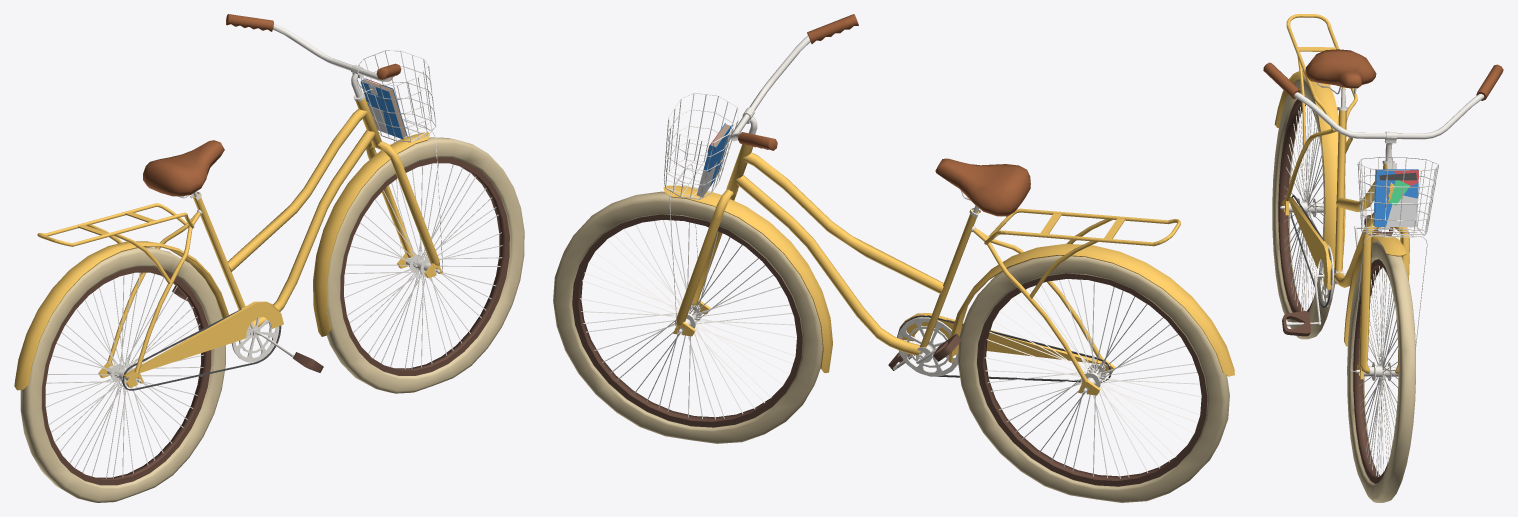
The model's file is bicycle.glb.
3 renders of one model, left to right at view 1: azimuth 30°, elevation 25°; view 2: azimuth 150°, elevation 25°; view 3: azimuth 270°, elevation 25°, orthographic. The views are drawn at different scales.
Parts seen in each view (by area): view 1: Cylinder.017_Material.006_0, Cylinder.005_Material.001_0, Cylinder.015_Material.002_0, Cylinder.017_Material.004_0, Cylinder.013_Material.005_0, Circle.004_Material.001_0, Cube.007_Material.010_0, Circle.003_Material.002_0, Circle.005_Material.007_0; view 2: Cylinder.017_Material.006_0, Cylinder.005_Material.001_0, Cylinder.015_Material.002_0, Cylinder.017_Material.004_0, Cylinder.013_Material.005_0, Circle.004_Material.001_0, Circle.003_Material.002_0, Circle.005_Material.007_0; view 3: Cylinder.015_Material.002_0, Cylinder.017_Material.006_0, Cylinder.005_Material.001_0, Cylinder.017_Material.004_0, Cylinder.013_Material.005_0, Circle.004_Material.001_0, Cube.007_Material.010_0, Cube.007_Material.008_0, Circle.003_Material.002_0, Circle.005_Material.007_0, Cube.007_Material.009_0.
Part boxes in pixels (x1=…): Cylinder.017_Material.006_0: x1=20, y1=137, x2=524, y2=502; Cylinder.005_Material.001_0: x1=14, y1=98, x2=442, y2=390; Cylinder.015_Material.002_0: x1=45, y1=23, x2=502, y2=478; Cylinder.017_Material.004_0: x1=42, y1=157, x2=509, y2=485; Cylinder.013_Material.005_0: x1=143, y1=14, x2=401, y2=196; Circle.004_Material.001_0: x1=123, y1=301, x2=283, y2=377; Cube.007_Material.010_0: x1=360, y1=78, x2=407, y2=139; Circle.003_Material.002_0: x1=231, y1=317, x2=278, y2=362; Circle.005_Material.007_0: x1=122, y1=309, x2=281, y2=390; Cylinder.017_Material.006_0: x1=553, y1=191, x2=1229, y2=502; Cylinder.005_Material.001_0: x1=663, y1=144, x2=1234, y2=395; Cylinder.015_Material.002_0: x1=580, y1=35, x2=1201, y2=478; Cylinder.017_Material.004_0: x1=572, y1=214, x2=1207, y2=486; Cylinder.013_Material.005_0: x1=738, y1=14, x2=1030, y2=216; Circle.004_Material.001_0: x1=897, y1=313, x2=1110, y2=367; Circle.003_Material.002_0: x1=897, y1=317, x2=958, y2=376; Circle.005_Material.007_0: x1=897, y1=315, x2=1111, y2=382; Cylinder.015_Material.002_0: x1=1280, y1=82, x2=1484, y2=476; Cylinder.017_Material.006_0: x1=1272, y1=77, x2=1415, y2=502; Cylinder.005_Material.001_0: x1=1274, y1=14, x2=1409, y2=379; Cylinder.017_Material.004_0: x1=1278, y1=96, x2=1393, y2=483; Cylinder.013_Material.005_0: x1=1263, y1=49, x2=1503, y2=100; Circle.004_Material.001_0: x1=1289, y1=197, x2=1331, y2=289; Cube.007_Material.010_0: x1=1373, y1=169, x2=1418, y2=226; Cube.007_Material.008_0: x1=1386, y1=195, x2=1417, y2=226; Circle.003_Material.002_0: x1=1319, y1=227, x2=1389, y2=306; Circle.005_Material.007_0: x1=1290, y1=195, x2=1331, y2=307; Cube.007_Material.009_0: x1=1389, y1=180, x2=1410, y2=205.
Size of the model in its own units: 1.73 by 1.1 by 0.6363.
